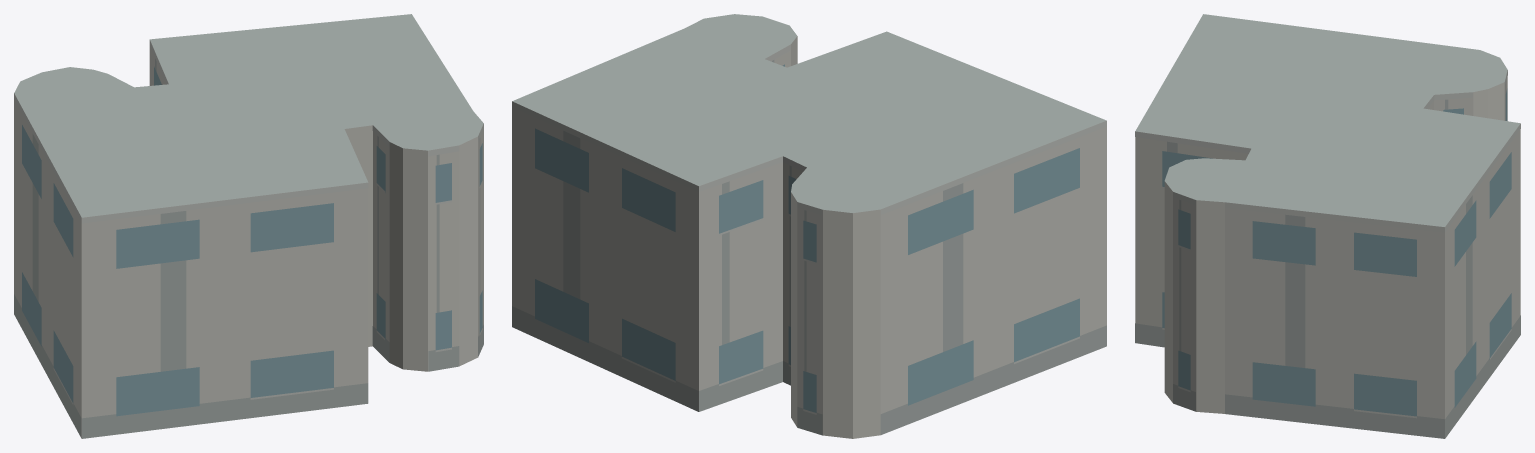
The model's file is survey-upis-32975064.glb.
3 renders of one model, left to right at view 1: azimuth 30°, elevation 25°; view 2: azimuth 150°, elevation 25°; view 3: azimuth 270°, elevation 25°, orthographic. The views are drawn at different scales.
Parts seen in each view (by area): view 1: survey-upis-32975064.tmp; view 2: survey-upis-32975064.tmp; view 3: survey-upis-32975064.tmp.
Boxes of the visible parts, box(x1,y1,x2,y2) form: survey-upis-32975064.tmp: box(14, 14, 483, 438); survey-upis-32975064.tmp: box(512, 14, 1106, 438); survey-upis-32975064.tmp: box(1135, 14, 1520, 438).
Bounding box in the file's own units: 19.77 × 9.15 × 15.11.
